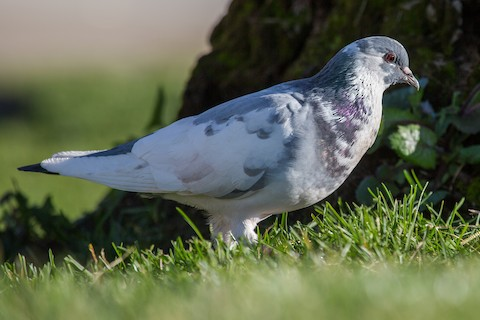pigeon: (15, 29, 426, 266)
